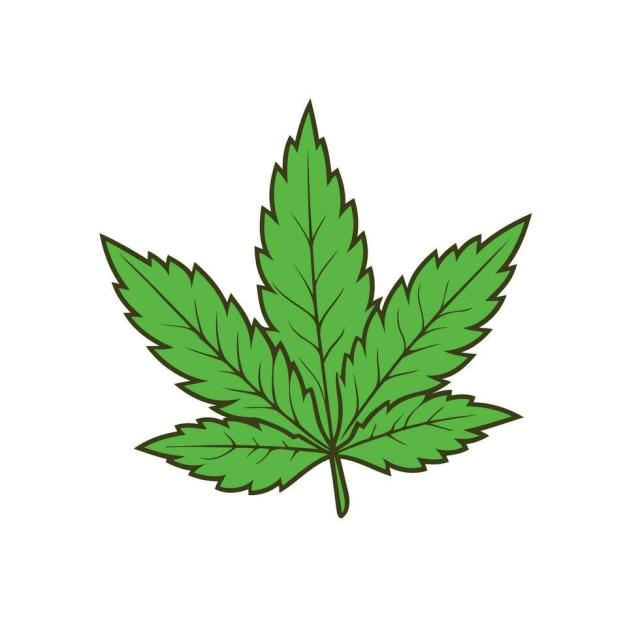cannabis: (100, 101, 531, 520)
